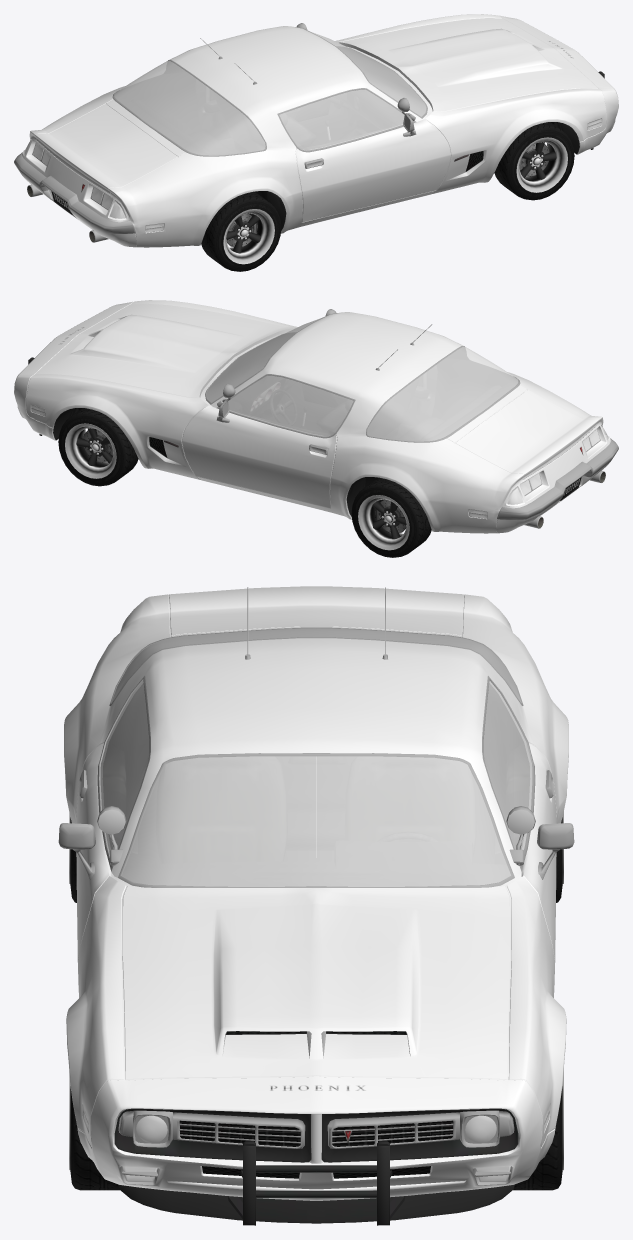
The model's file is cop71.glb.
3 renders of one model, top to bottom at view 1: azimuth 30°, elevation 25°; view 2: azimuth 150°, elevation 25°; view 3: azimuth 270°, elevation 25°, orthographic. The views are drawn at different scales.
Visible parts, largest first — view 1: body, spin_RR, spin_FR; view 2: body, spin_RL, spin_FL; view 3: body, spin_FL, spin_FR.
Part boxes in pixels (x1,y1,x2,y2): body: (14, 14, 618, 247); spin_RR: (201, 191, 281, 271); spin_FR: (494, 122, 574, 200); body: (14, 300, 618, 533); spin_RL: (351, 477, 431, 557); spin_FL: (58, 408, 138, 486); body: (58, 586, 574, 1225); spin_FL: (513, 1069, 563, 1190); spin_FR: (69, 1073, 119, 1190).
Bounding box in the file's own units: 5.05 × 1.54 × 2.12.
8 materials, 5 textured.
